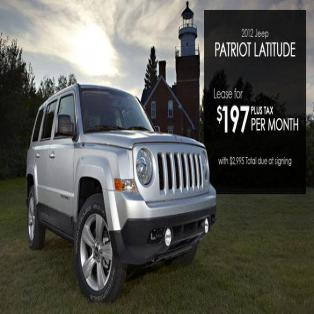Auto: (25, 82, 220, 301)
